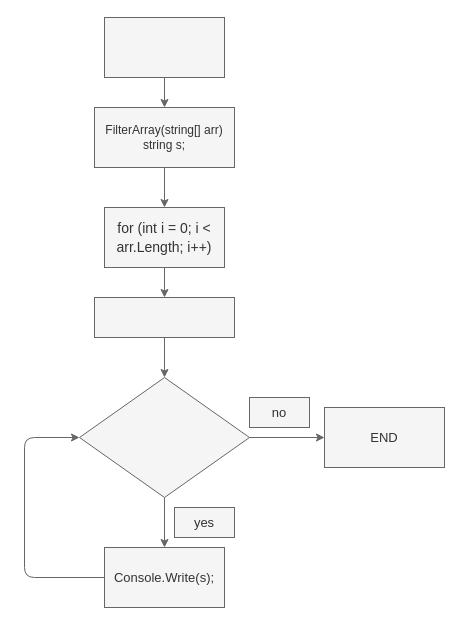
Some shapes in this 462 by 625 pixel diagram are drawn without their labels. The centre of each missing label's shape, as x and y in pixels:
int countLetters;: the point at 164,47
s = arr[i].Trim();: the point at 164,317
s.Length <= countLetters: the point at 164,437
